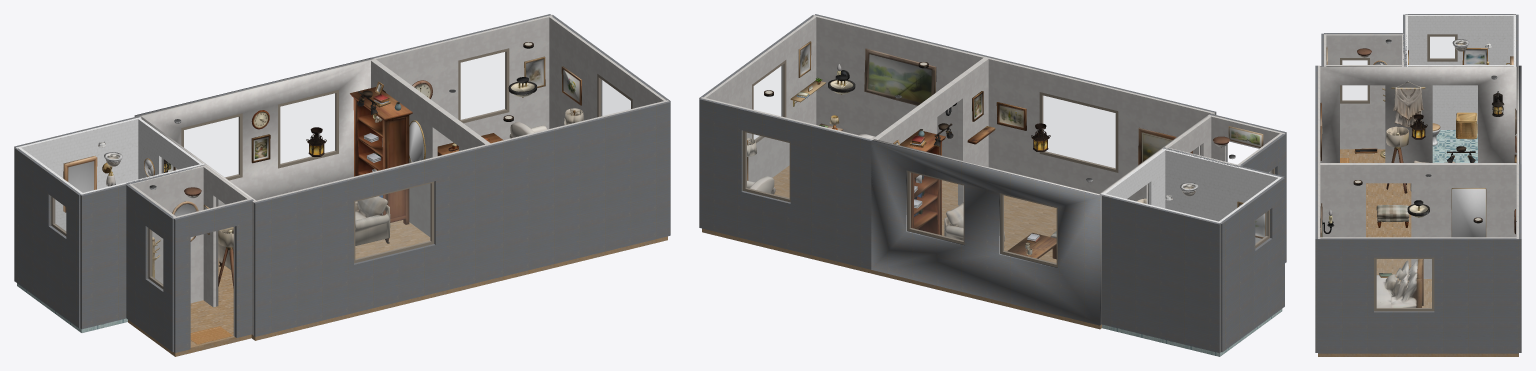
File: scene_named.glb
3 renders of one model, left to right at view 1: azimuth 30°, elevation 25°; view 2: azimuth 150°, elevation 25°; view 3: azimuth 270°, elevation 25°, orthographic. The views are drawn at different scales.
Visible parts, largest first — view 1: south_wall_exterior_living_room/south_wall_exterior_living_r, south_wall_exterior_bedroom/south_wall_exterior_bedroom/geom, north_wall_living_room/north_wall_living_room/geometry_0, north_wall_bedroom/north_wall_bedroom/geometry_0, west_wall_exterior_bathroom/west_wall_exterior_bathroom/geom, south_wall_exterior_bathroom/south_wall_exterior_bathroom/ge, west_wall_exterior_hallway/west_wall_exterior_hallway/geomet, south_wall_exterior_hallway/south_wall_exterior_hallway/geom, east_wall_bedroom/east_wall_bedroom/geometry_0, north_wall_bathroom/north_wall_bathroom/geometry_0, bookshelf_0, window_2_living_room/window_2_living_room/glass (+25 smaller); view 2: north_wall_exterior_living_room/north_wall_exterior_living_r, north_wall_exterior_bedroom/north_wall_exterior_bedroom/geom, north_wall_exterior_bathroom/north_wall_exterior_bathroom/ge, south_wall_living_room/south_wall_living_room/geometry_0, south_wall_bedroom/south_wall_bedroom/geometry_0, west_wall_exterior_bathroom/west_wall_exterior_bathroom/geom, east_wall_bedroom/east_wall_bedroom/geometry_0, south_wall_bathroom/south_wall_bathroom/geometry_0, east_wall_living_room/east_wall_living_room/geometry_0, window_2_living_room/window_2_living_room/glass, floor_living_room, painting_0.001 (+24 smaller); view 3: east_wall_exterior_bedroom/east_wall_exterior_bedroom/geomet, west_wall_bedroom/west_wall_bedroom/geometry_0, west_wall_living_room/west_wall_living_room/geometry_0, west_wall_bathroom/west_wall_bathroom/geometry_0, west_wall_hallway/west_wall_hallway/geometry_0, window_3_bedroom/window_3_bedroom/glass, floor_living_room, bed_0, mirror_0.001, floor_bathroom, floor_bedroom, wall_hanging_0 (+24 smaller).
Boxes of the visible parts, left/top/right/bottom form: south_wall_exterior_living_room/south_wall_exterior_living_r: left=254, top=145, right=491, bottom=336; south_wall_exterior_bedroom/south_wall_exterior_bedroom/geom: left=490, top=101, right=670, bottom=279; north_wall_living_room/north_wall_living_room/geometry_0: left=136, top=58, right=373, bottom=206; north_wall_bedroom/north_wall_bedroom/geometry_0: left=373, top=15, right=552, bottom=146; west_wall_exterior_bathroom/west_wall_exterior_bathroom/geom: left=14, top=147, right=81, bottom=328; south_wall_exterior_bathroom/south_wall_exterior_bathroom/ge: left=80, top=164, right=205, bottom=329; west_wall_exterior_hallway/west_wall_exterior_hallway/geomet: left=126, top=185, right=173, bottom=351; south_wall_exterior_hallway/south_wall_exterior_hallway/geom: left=174, top=199, right=253, bottom=352; east_wall_bedroom/east_wall_bedroom/geometry_0: left=549, top=16, right=665, bottom=128; north_wall_bathroom/north_wall_bathroom/geometry_0: left=16, top=117, right=141, bottom=230; bookshelf_0: left=350, top=87, right=412, bottom=224; window_2_living_room/window_2_living_room/glass: left=355, top=184, right=430, bottom=258; north_wall_exterior_living_room/north_wall_exterior_living_r: left=871, top=140, right=1101, bottom=325; north_wall_exterior_bedroom/north_wall_exterior_bedroom/geom: left=699, top=98, right=873, bottom=269; north_wall_exterior_bathroom/north_wall_exterior_bathroom/ge: left=1099, top=194, right=1220, bottom=352; south_wall_living_room/south_wall_living_room/geometry_0: left=985, top=57, right=1214, bottom=201; south_wall_bedroom/south_wall_bedroom/geometry_0: left=813, top=15, right=985, bottom=159; west_wall_exterior_bathroom/west_wall_exterior_bathroom/geom: left=1220, top=177, right=1284, bottom=352; east_wall_bedroom/east_wall_bedroom/geometry_0: left=703, top=16, right=816, bottom=182; south_wall_bathroom/south_wall_bathroom/geometry_0: left=1162, top=148, right=1281, bottom=243; east_wall_living_room/east_wall_living_room/geometry_0: left=875, top=58, right=988, bottom=204; window_2_living_room/window_2_living_room/glass: left=1043, top=96, right=1115, bottom=168; floor_living_room: left=874, top=195, right=1101, bottom=329; painting_0.001: left=864, top=48, right=936, bottom=105; east_wall_exterior_bedroom/east_wall_exterior_bedroom/geomet: left=1318, top=238, right=1518, bottom=353; west_wall_bedroom/west_wall_bedroom/geometry_0: left=1320, top=164, right=1516, bottom=278; west_wall_living_room/west_wall_living_room/geometry_0: left=1320, top=66, right=1516, bottom=162; west_wall_bathroom/west_wall_bathroom/geometry_0: left=1405, top=15, right=1515, bottom=129; west_wall_hallway/west_wall_hallway/geometry_0: left=1324, top=34, right=1403, bottom=149; window_3_bedroom/window_3_bedroom/glass: left=1377, top=259, right=1431, bottom=307; floor_living_room: left=1366, top=183, right=1411, bottom=277; bed_0: left=1376, top=259, right=1423, bottom=307; mirror_0.001: left=1451, top=188, right=1486, bottom=237; floor_bathroom: left=1432, top=130, right=1477, bottom=162; floor_bedroom: left=1318, top=278, right=1518, bottom=356; wall_hanging_0: left=1391, top=81, right=1425, bottom=127.
Size of the model in its own units: 10.6 by 2.6 by 4.1.
92 materials, 90 textured.
